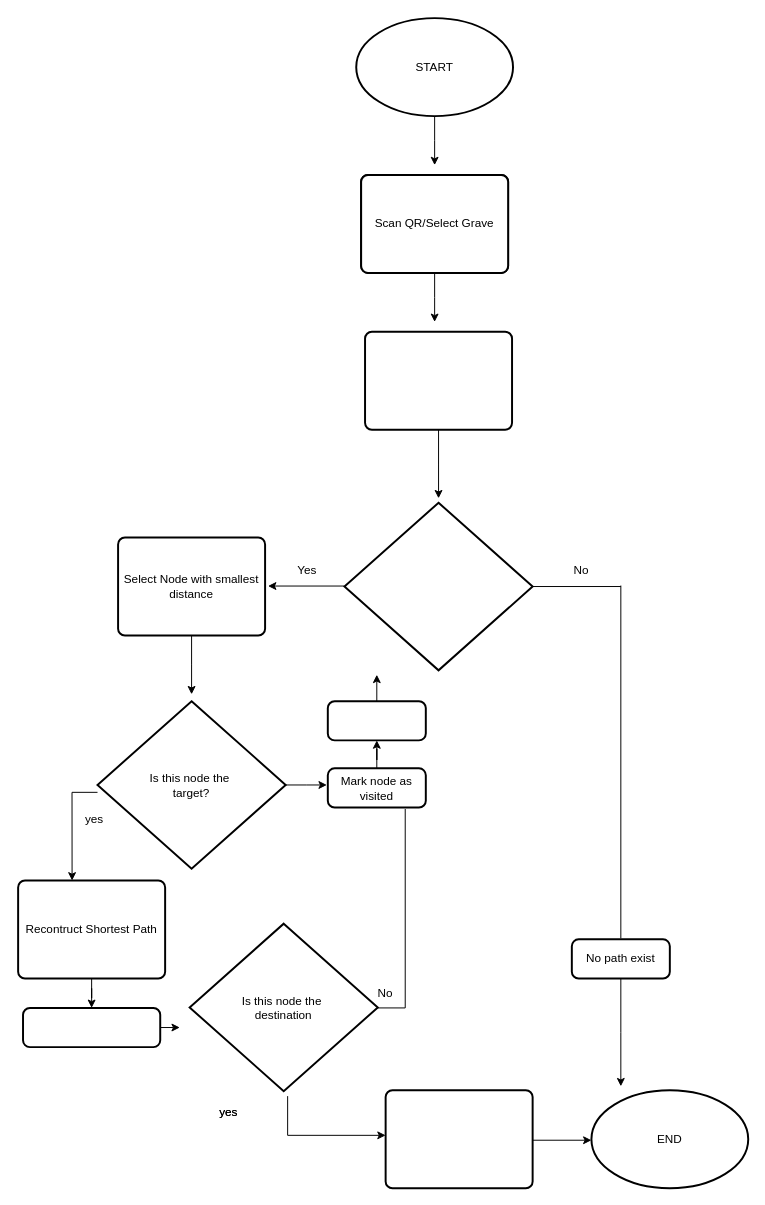
Some shapes in this 765 by 1205 pixel diagram are drawn without their labels. The shapes that lost their labels are listed below. From the top down, each one's centre as x and y in pixels, then its label:
At point 438,380: "Initialize Distances".
At point 438,586: "While unvisited node remains".
At point 376,720: "Update distance to neighbor node".
At point 91,1027: "Show route on map".
At point 458,1139: "End of path".
